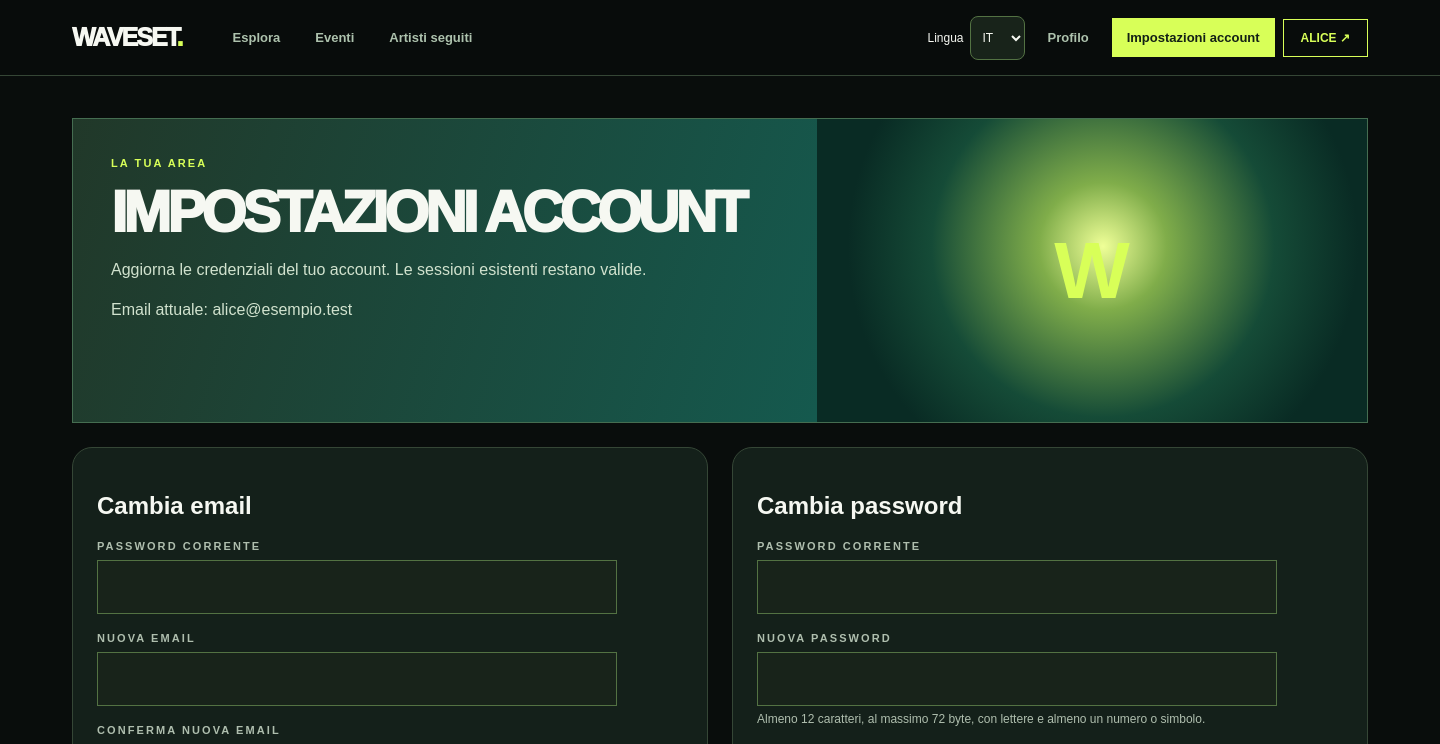
Test: validazione password: Password-nuova-123
This screenshot has width=1440, height=744.
Expected: the heading "Impostazioni account" is shown, [111,184,779,242]
Type "Password-attuale-123" into the 2nd password field labelled "Password corrente".
click(1017, 587); type("Password-attuale-123")  # box [779,561,1255,613]
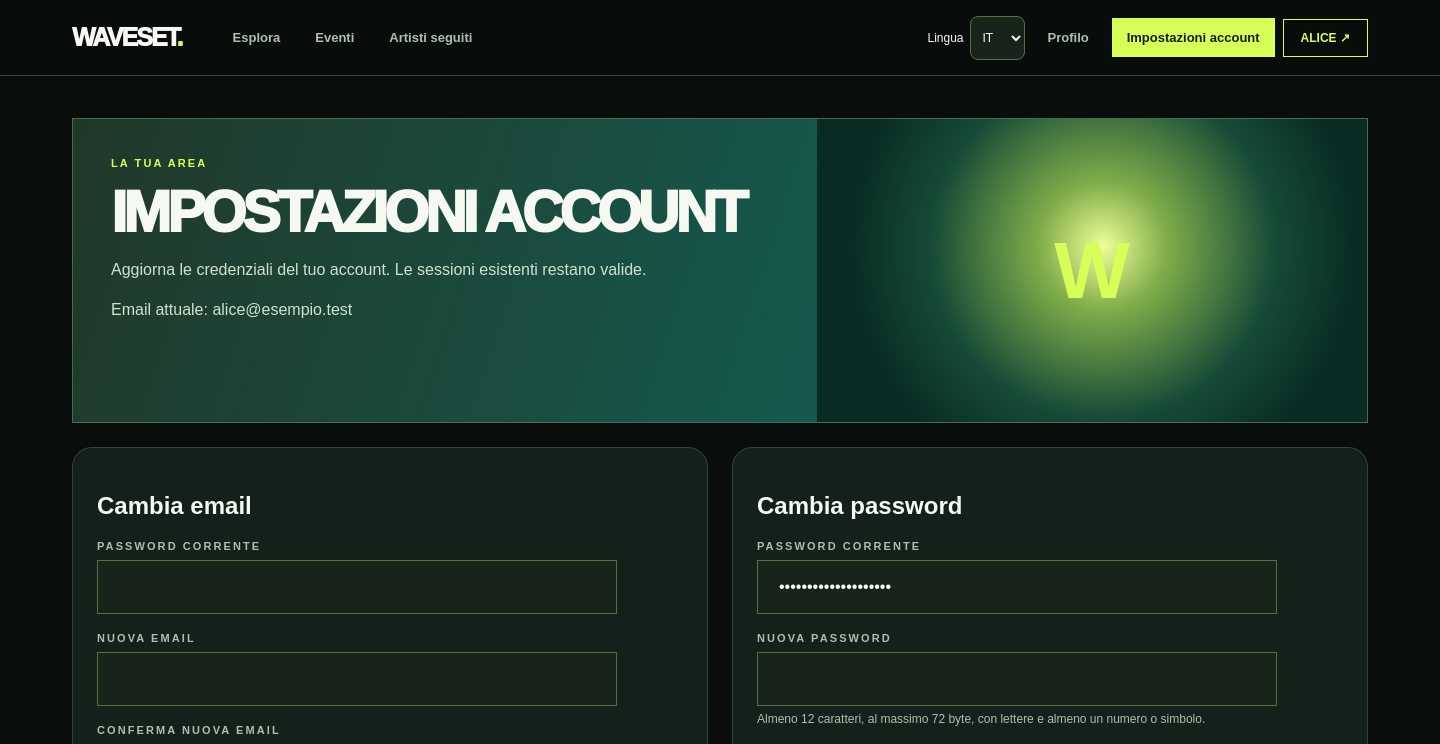
Type "Password-nuova-123" into the password field labelled "Nuova password".
click(1017, 679); type("Password-nuova-123")  # box [779,653,1255,705]
(page scrolled)
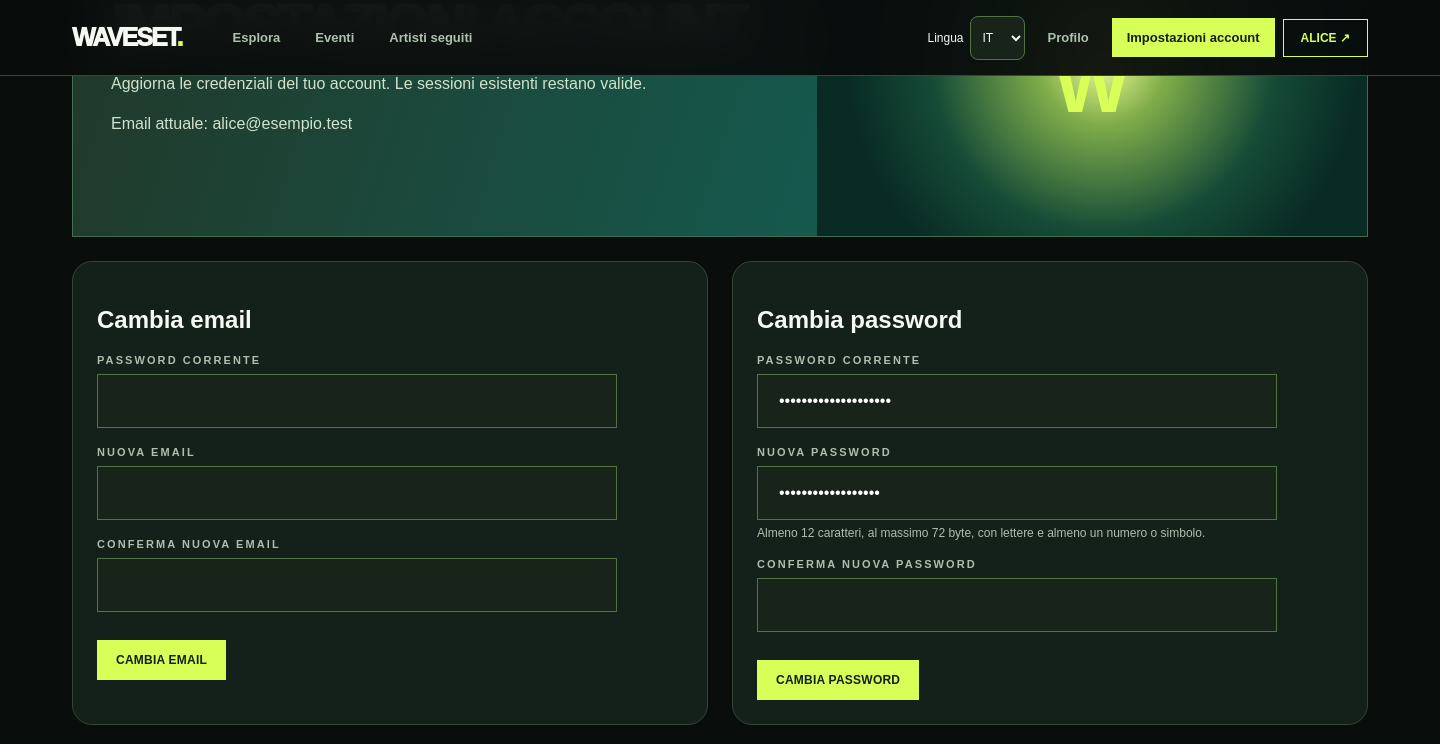
Type "diversa" into the password field labelled "Conferma nuova password".
click(1017, 605); type("diversa")  # box [779,579,1255,631]
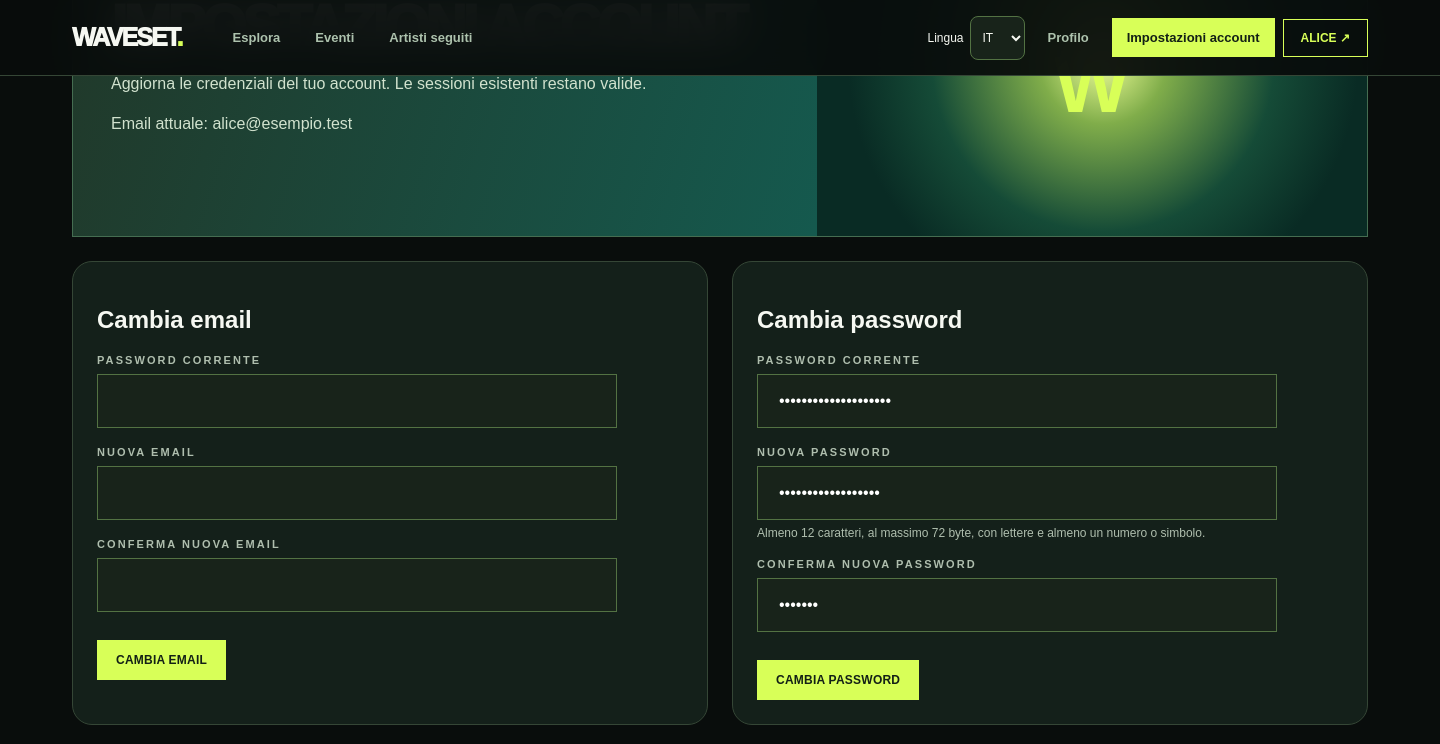
Click the button "Cambia password".
click(838, 680)  # box [757,660,919,700]
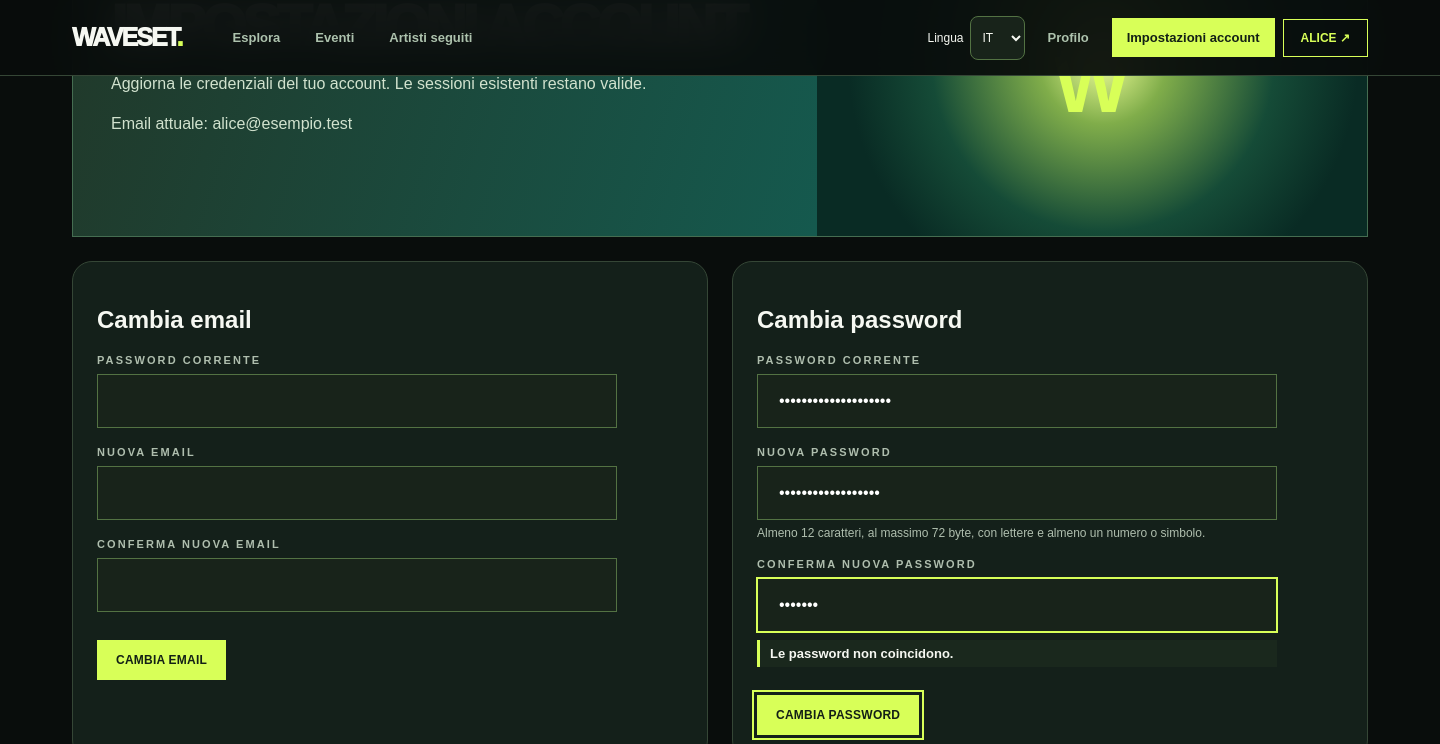
Expected: the text "Le password non coincidono." is shown, [757,640,1277,667]
